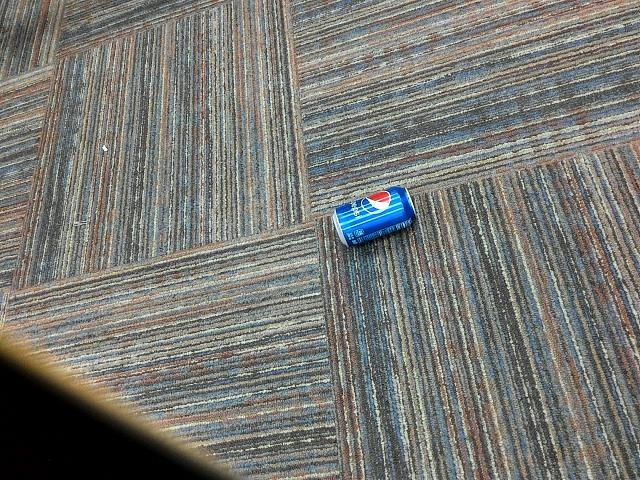can: (306, 173, 431, 259)
